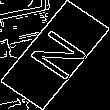N_SE: (19, 24, 91, 86)
